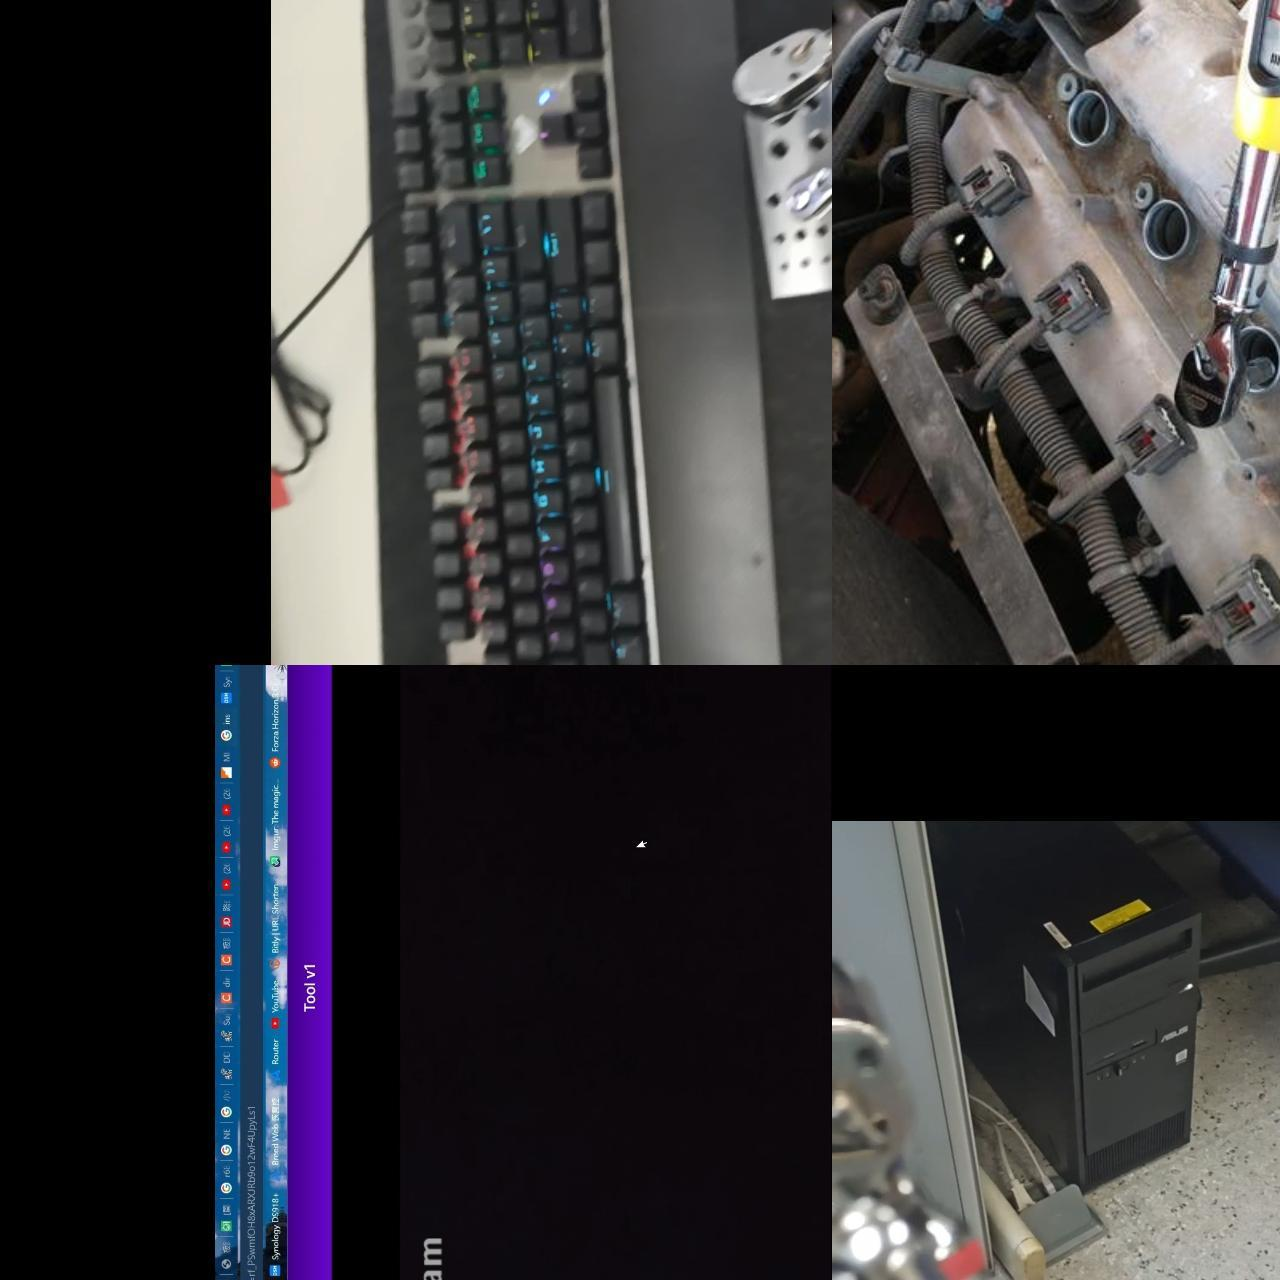Tool: (1173, 325, 1237, 429)
